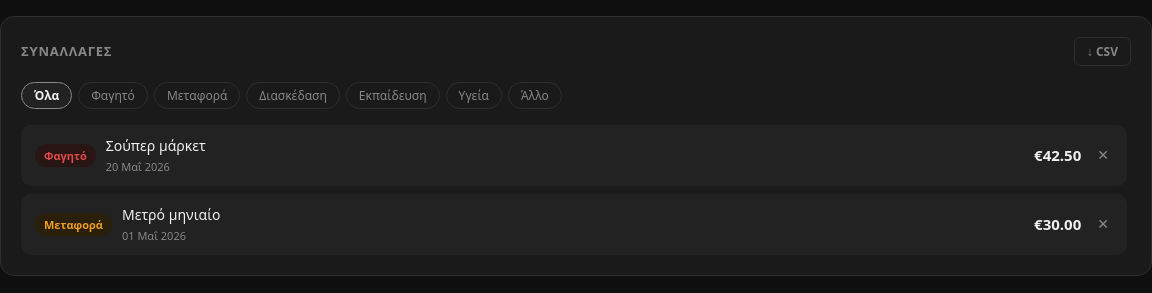
Test: ExpenseList — category filter › clicking "Όλα" after filter shows all expenses again
This screenshot has width=1152, height=293.
Click the button "Φαγητό" at point(113, 96), box left=78, top=82, right=148, bottom=109
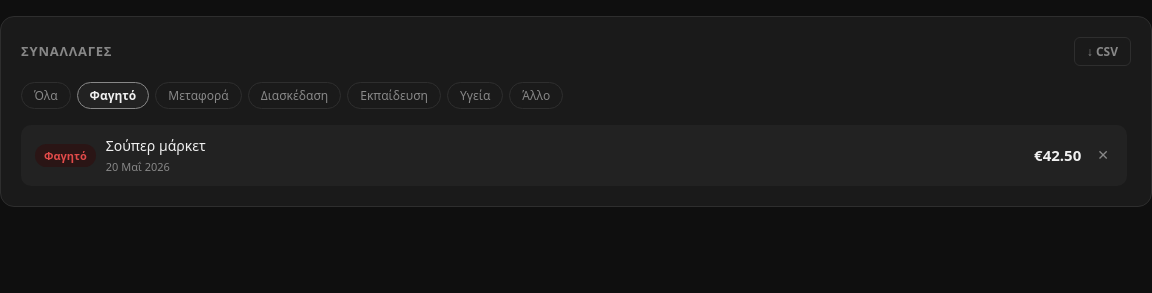
Click the button "Όλα" at point(46, 96), box left=21, top=82, right=71, bottom=109
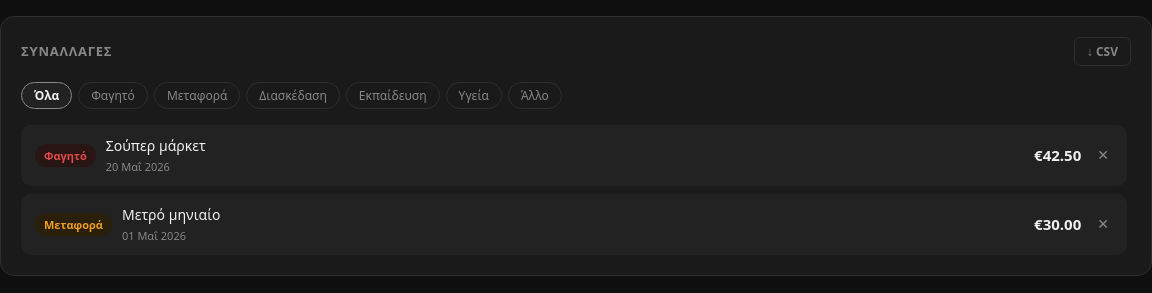
Now the number of list items is 2, box left=21, top=125, right=1127, bottom=186; left=21, top=194, right=1127, bottom=255
